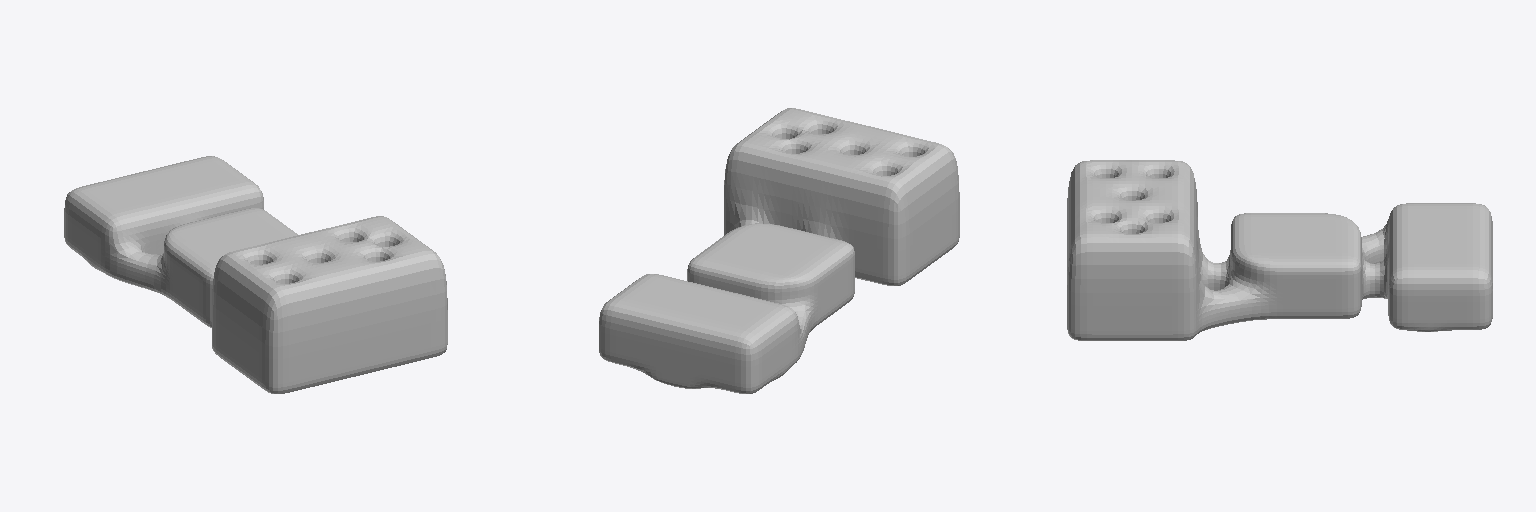
File: Arena.obj
3 views of the same model, side by side, from view 1: azimuth 30°, elevation 25°; view 2: azimuth 150°, elevation 25°; view 3: azimuth 270°, elevation 25° (orthographic).
Parts seen in each view (by area): view 1: Cube; view 2: Cube; view 3: Cube.
Boxes of the visible parts, box(x1,y1,x2,y2) form: Cube: box(64, 156, 447, 393); Cube: box(599, 108, 959, 393); Cube: box(1067, 160, 1492, 340).
Bounding box in the file's own units: 6.4 × 3.95 × 13.